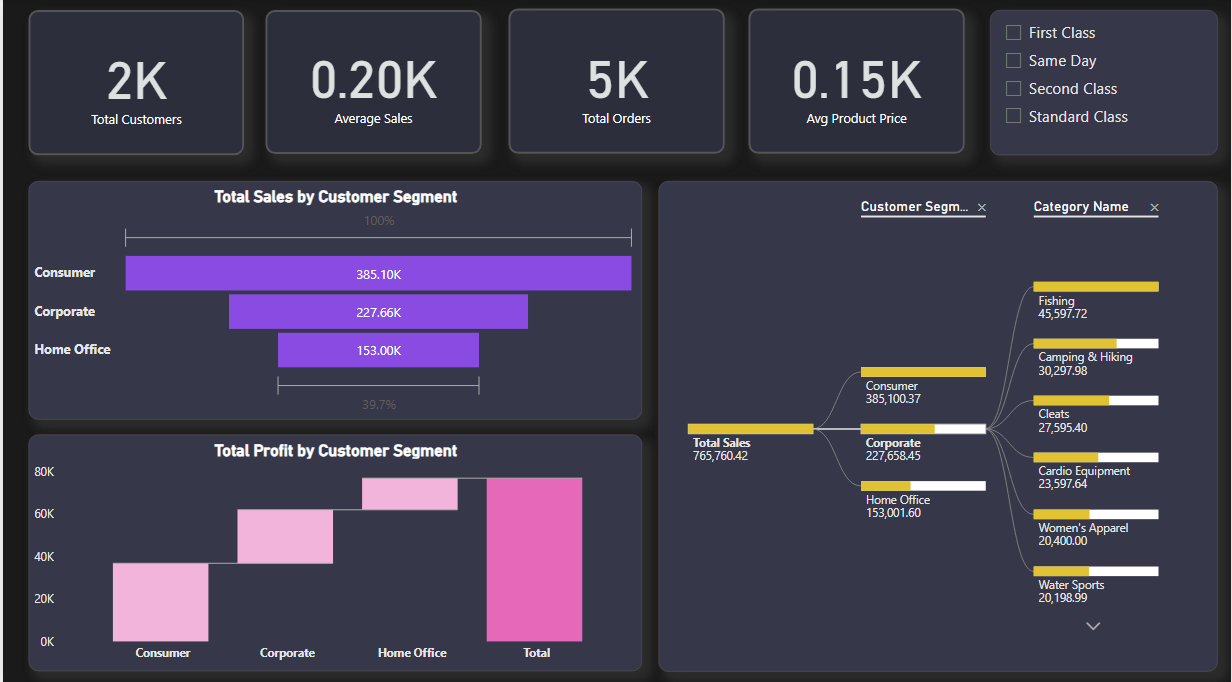

This screenshot's page, from the dashboard's own definition file:
{"tool":"powerbi","page":{"name":" Customer & Geographic Analysis","canvas":[1280,720],"ordinal":2},"visuals":[{"type":"card","fields":{"Values":["SupplyChain-Data.Total Customers"]},"box":[26.5,13.2,224.9,151.2],"z":0},{"type":"card","fields":{"Values":["SupplyChain-Data.Avg Product Price"]},"box":[776.8,10.9,225.1,151.6],"z":1000},{"type":"card","fields":{"Values":["SupplyChain-Data.Total Orders"]},"box":[526.7,10.9,225.1,151.6],"z":2000},{"type":"card","fields":{"Values":["SupplyChain-Data.Average Sales"]},"box":[273.5,12.5,225.1,150],"z":3000},{"type":"funnel","fields":{"Y":["SupplyChain-Data.Total Sales"],"Category":["SupplyChain-Data.Customer Segment"]},"box":[26.6,190.7,639.3,248.5],"z":4000},{"type":"slicer","fields":{"Values":["SupplyChain-Data.Shipping Mode"]},"box":[1028.4,12.5,237.6,151.6],"z":5000},{"type":"waterfallChart","fields":{"Category":["SupplyChain-Data.Customer Segment"],"Y":["SupplyChain-Data.Total Profit"]},"box":[26.6,454.8,639.3,247],"z":6000},{"type":"decompositionTreeVisual","fields":{"ExplainBy":["SupplyChain-Data.Customer Segment","SupplyChain-Data.Category Name"],"Analyze":["SupplyChain-Data.Total Sales"]},"box":[683,190.7,583,511.1],"z":7000}]}

Visuals, with their boxes in screenshot pixels (x1, y1, x2, y2), scaled from the page's 1280x720 canvas onto the 1232x682 screenshot:
card - SupplyChain-Data.Total Customers: rect(26, 13, 242, 156)
card - SupplyChain-Data.Avg Product Price: rect(748, 10, 964, 154)
card - SupplyChain-Data.Total Orders: rect(507, 10, 724, 154)
card - SupplyChain-Data.Average Sales: rect(263, 12, 480, 154)
funnel - SupplyChain-Data.Total Sales x SupplyChain-Data.Customer Segment: rect(26, 181, 641, 416)
slicer - SupplyChain-Data.Shipping Mode: rect(990, 12, 1219, 155)
waterfallChart - SupplyChain-Data.Customer Segment x SupplyChain-Data.Total Profit: rect(26, 431, 641, 665)
decompositionTreeVisual - SupplyChain-Data.Customer Segment x SupplyChain-Data.Category Name: rect(657, 181, 1219, 665)
